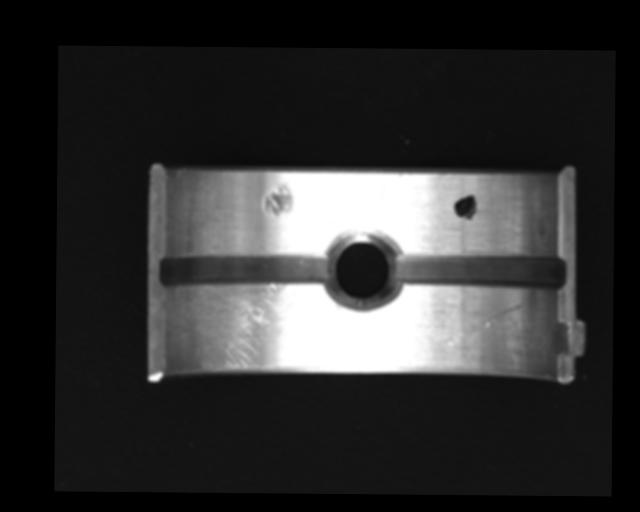blot: (453, 193, 477, 220)
bruise: (264, 180, 294, 217)
gap: (158, 252, 334, 290), (396, 253, 566, 287)
hole: (325, 228, 401, 311)
nick: (444, 301, 525, 348)
scratch: (172, 281, 330, 373)
